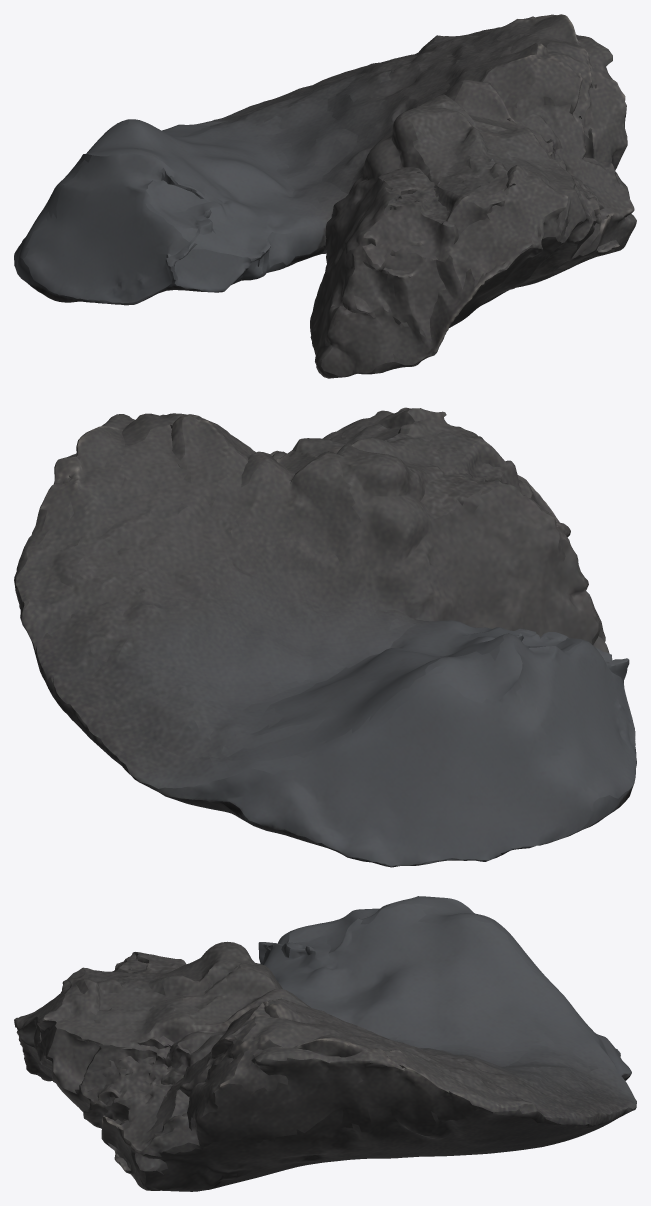
The picture shows the model from 3 angles, top to bottom: view 1: azimuth 30°, elevation 25°; view 2: azimuth 150°, elevation 25°; view 3: azimuth 270°, elevation 25°; orthographic projection. The views are drawn at different scales.
Parts seen in each view (by area): view 1: world; view 2: world; view 3: world.
Boxes of the visible parts, left/top/right/bottom form: world: left=14, top=14, right=636, bottom=378; world: left=14, top=407, right=636, bottom=867; world: left=14, top=896, right=636, bottom=1191.
Bounding box in the file's own units: 1.2 × 0.4742 × 1.2.
1 material, 1 textured.
